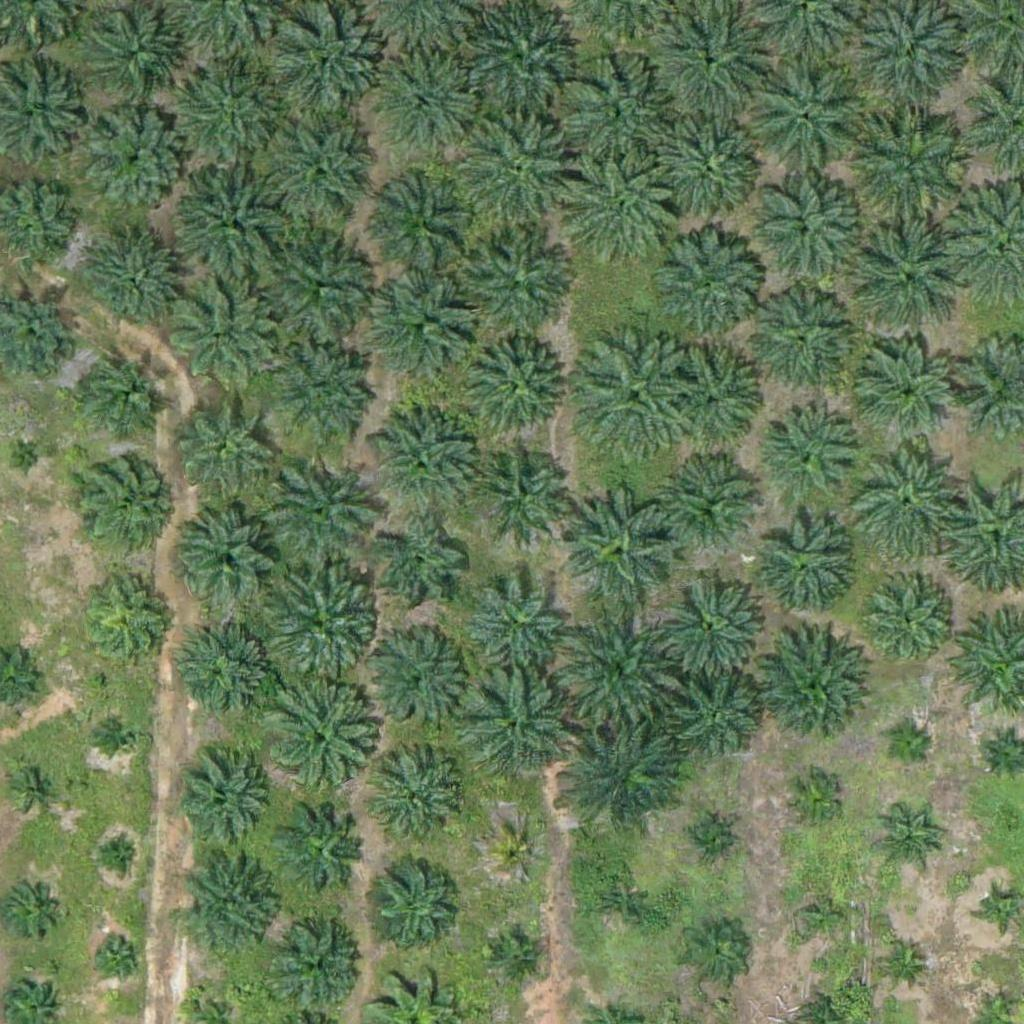Kelapa_Sawit: (167, 160, 292, 286), (164, 53, 289, 179), (265, 4, 390, 130), (258, 224, 383, 350), (454, 106, 579, 232), (562, 151, 687, 277), (555, 53, 680, 179), (645, 101, 770, 227), (641, 222, 766, 348), (743, 172, 868, 298), (743, 55, 868, 181), (849, 102, 974, 228), (848, 218, 973, 344), (845, 438, 970, 564), (570, 333, 695, 459), (555, 603, 680, 729), (563, 714, 688, 840), (256, 561, 381, 686), (256, 680, 381, 805), (754, 634, 867, 748), (263, 117, 376, 230), (463, 672, 576, 785), (368, 407, 481, 520), (265, 338, 378, 451), (262, 456, 375, 569), (655, 564, 767, 678), (565, 484, 677, 598), (370, 167, 482, 280), (459, 233, 571, 346), (167, 283, 279, 396), (87, 110, 187, 211), (83, 235, 183, 336), (859, 344, 959, 445), (858, 571, 958, 672), (747, 291, 847, 392), (759, 407, 859, 508), (661, 340, 761, 441), (467, 573, 567, 674), (371, 519, 471, 620), (366, 628, 466, 729), (169, 389, 269, 490), (180, 506, 280, 607), (177, 625, 277, 726), (174, 753, 274, 854), (72, 344, 172, 445), (74, 450, 174, 551), (79, 571, 179, 672), (182, 855, 282, 956), (382, 62, 482, 162), (751, 516, 851, 616), (664, 455, 764, 555), (464, 335, 564, 435), (473, 443, 573, 543), (376, 279, 476, 379), (377, 757, 465, 846), (90, 15, 178, 103), (673, 675, 761, 763), (274, 921, 362, 1009), (281, 808, 369, 896), (371, 853, 458, 941), (875, 814, 938, 877), (781, 768, 844, 831), (792, 885, 855, 948), (685, 923, 747, 986), (589, 872, 651, 935), (4, 882, 54, 933), (878, 936, 928, 987), (682, 814, 732, 865), (492, 931, 542, 981), (883, 724, 933, 774), (493, 831, 543, 881), (93, 929, 143, 979), (984, 890, 1022, 928), (7, 440, 45, 478), (104, 718, 142, 756), (98, 835, 135, 873), (16, 768, 53, 806)
